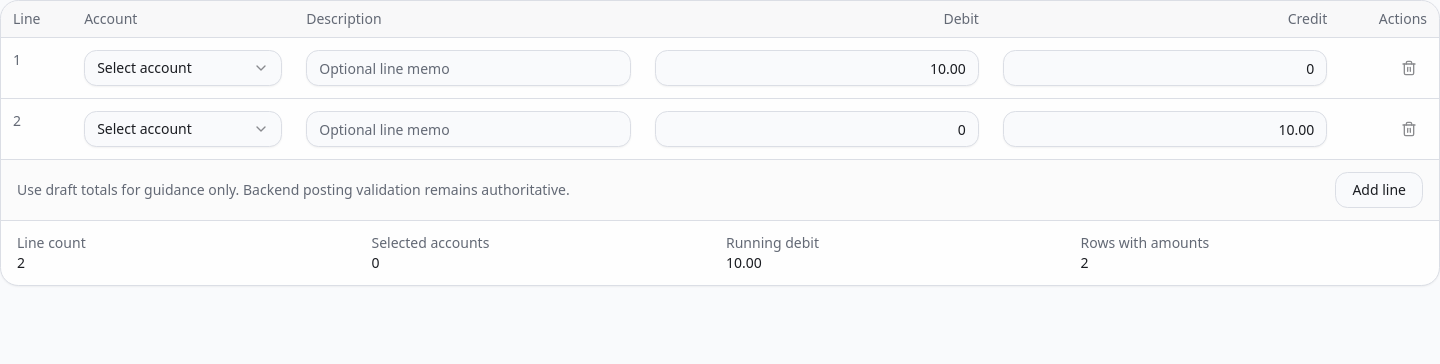
Test: journal UI helpers › adds and removes journal lines
Check: the text "2" below "Line count" is shown, box [17,253,25,272]
Click the button "Add line" at (1379, 190), box [1335,172,1423,208]
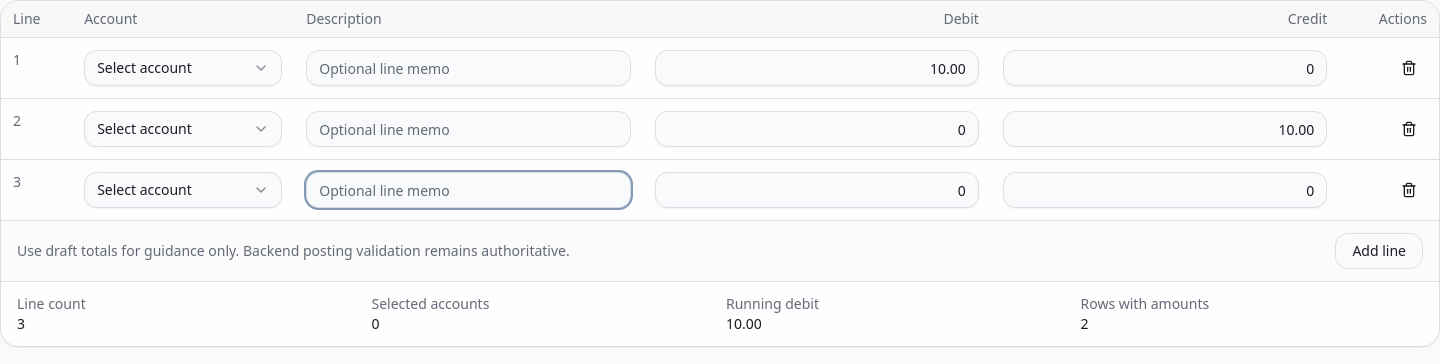
Check: the text "3" is shown, box [17,314,25,333]
Click the button named "remove line 3" at (1409, 190), box [1391,172,1427,208]
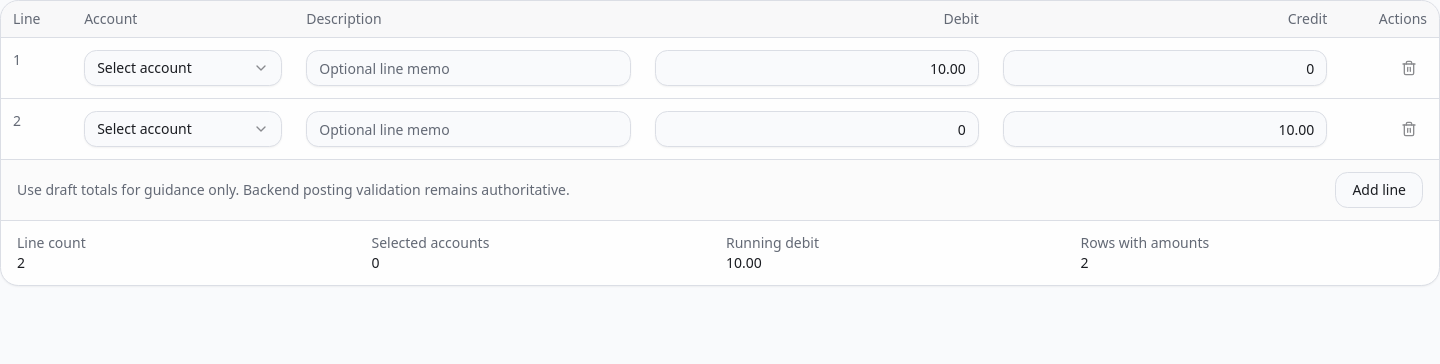
Check: the text "2" below "Line count" is shown, box [17,253,25,272]
